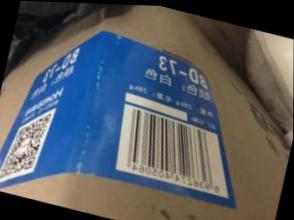cardboard: (0, 0, 292, 219)
